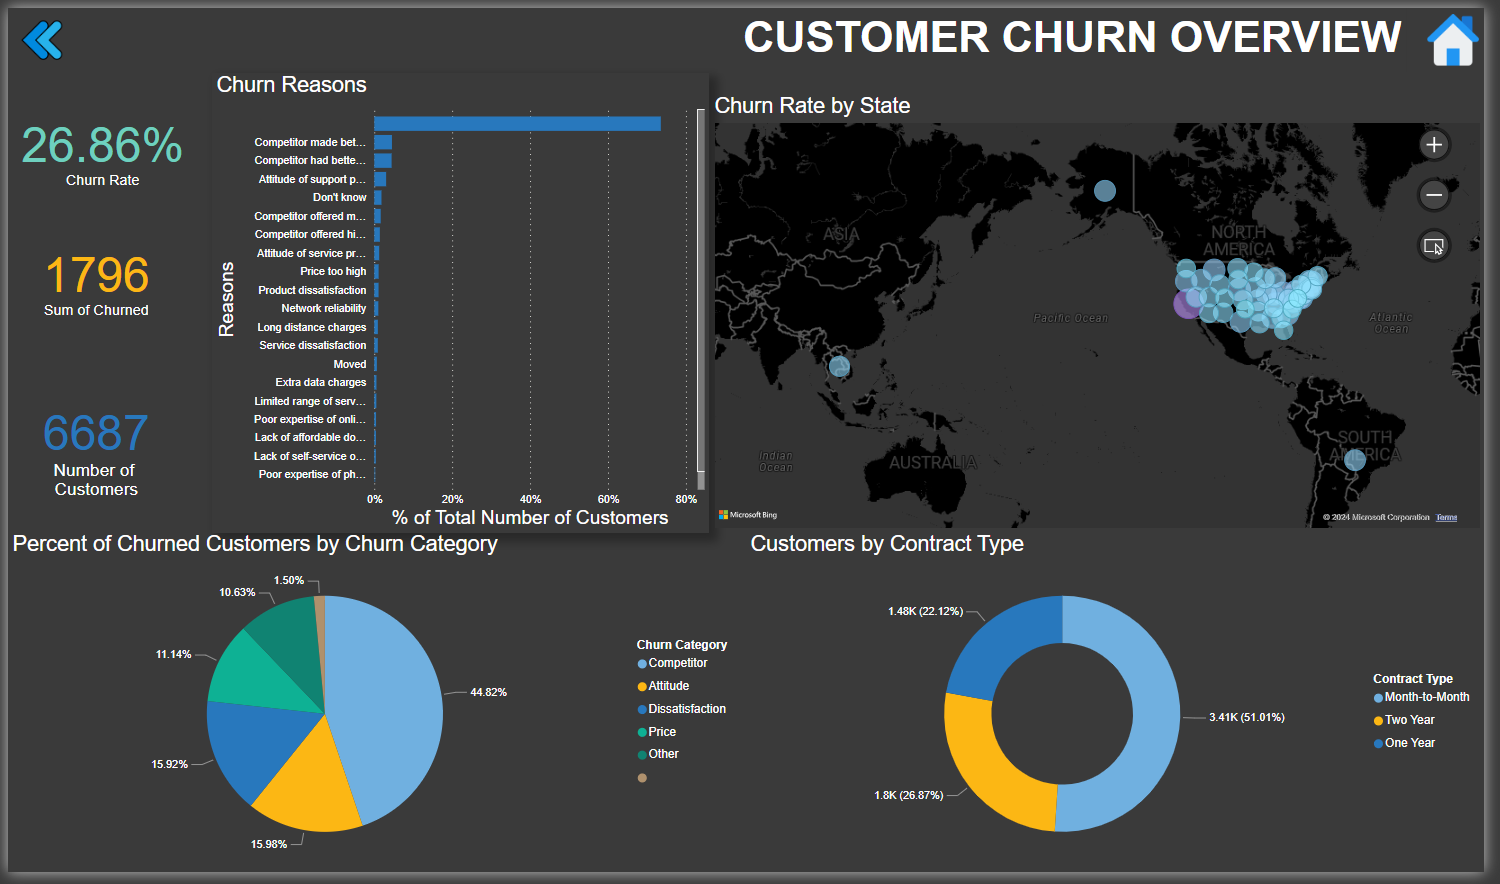

The page's visual inventory and layout, read from the dashboard file:
{"tool":"powerbi","page":{"name":"Overview","canvas":[1640,960],"ordinal":1},"visuals":[{"type":"card","fields":{"Values":["_Measures.Churn Rate"]},"box":[0,53.6,209.9,206.7],"z":0},{"type":"card","fields":{"Values":["Sum(Databel - Data.Churned)"]},"box":[0,238.3,195.7,126.2],"z":1000},{"type":"card","fields":{"Values":["CountNonNull(Databel - Data.Customer ID)"]},"box":[0,375.5,195.7,206.7],"z":2000},{"type":"barChart","title":"Churn Reasons","fields":{"Y":["_Measures.Number of Customers"],"Category":["Databel - Data.Churn Reason"]},"box":[227.2,71,552.3,511.3],"z":3000},{"type":"pieChart","title":"Percent of Churned Customers by Churn Category","fields":{"Category":["Databel - Data.Churn Category"],"Y":["Divide(_Measures.Number of Churned Customers, ScopedEval(_Measures.Number of Churned Customers, []))"]},"box":[0,582.3,820.5,377.1],"z":4000},{"type":"donutChart","title":"Customers by Contract Type","fields":{"Category":["Databel - Data.Contract Type"],"Y":["CountNonNull(Databel - Data.Customer ID)"]},"box":[820.5,582.3,818.9,377.1],"z":5000},{"type":"map","title":"Churn Rate by State","fields":{"Category":["Databel - Data.State"],"Size":["_Measures.Churn Rate"]},"box":[779.5,94.7,860,487.6],"z":6000},{"type":"textbox","box":[789,0,765.3,71],"z":7000},{"type":"image","box":[0,0,75.7,71],"z":8002},{"type":"image","box":[1571.6,0,67.9,71],"z":8003}]}

Visuals, with their boxes in screenshot pixels (x1, y1, x2, y2), scaled from the page's 1640x960 canvas onto the 1500x884 screenshot:
card - _Measures.Churn Rate: (0, 49, 192, 240)
card - Sum(Databel - Data.Churned): (0, 219, 179, 336)
card - CountNonNull(Databel - Data.Customer ID): (0, 346, 179, 536)
"Churn Reasons" barChart: (208, 65, 713, 536)
"Percent of Churned Customers by Churn Category" pieChart: (0, 536, 750, 883)
"Customers by Contract Type" donutChart: (750, 536, 1499, 883)
"Churn Rate by State" map: (713, 87, 1499, 536)
textbox: (722, 0, 1422, 65)
image: (0, 0, 69, 65)
image: (1437, 0, 1499, 65)
